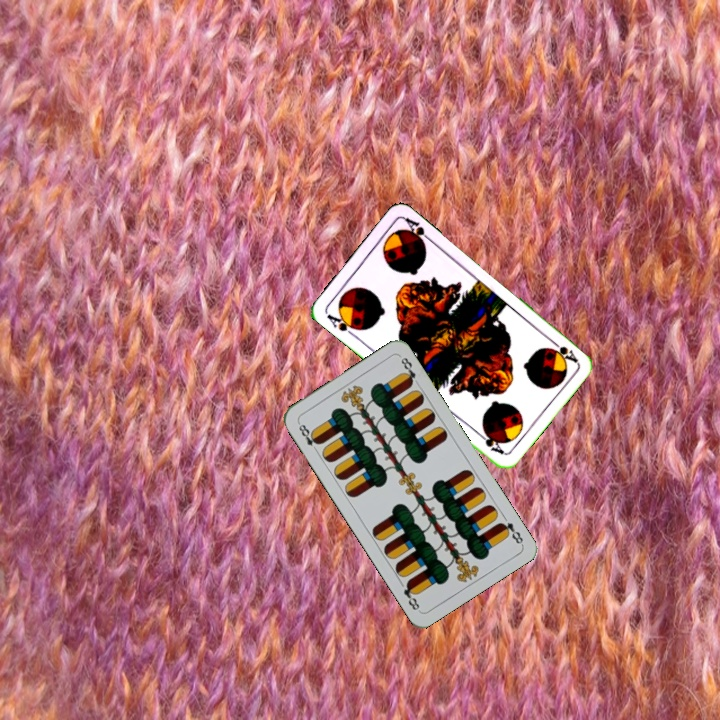E8: (294, 418, 323, 455), (495, 518, 526, 547)
SA: (323, 308, 361, 339), (545, 334, 580, 365)
